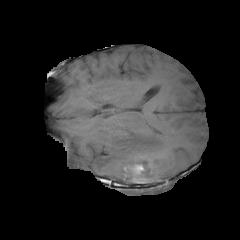glioma: (93, 124, 174, 181)
